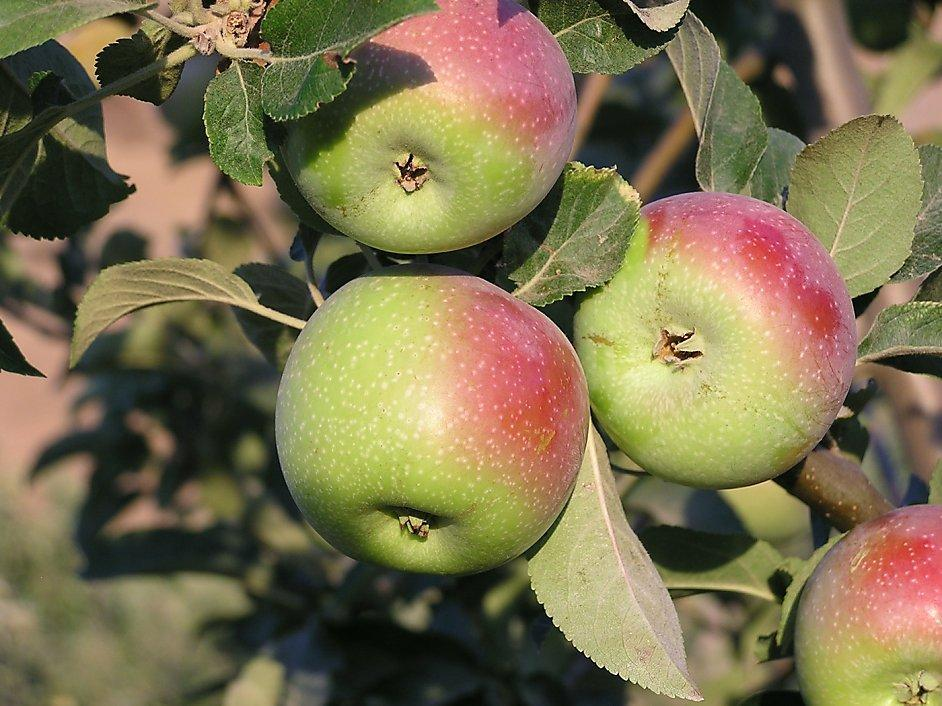apple: (275, 272, 590, 581), (578, 190, 856, 493), (272, 1, 581, 254)
